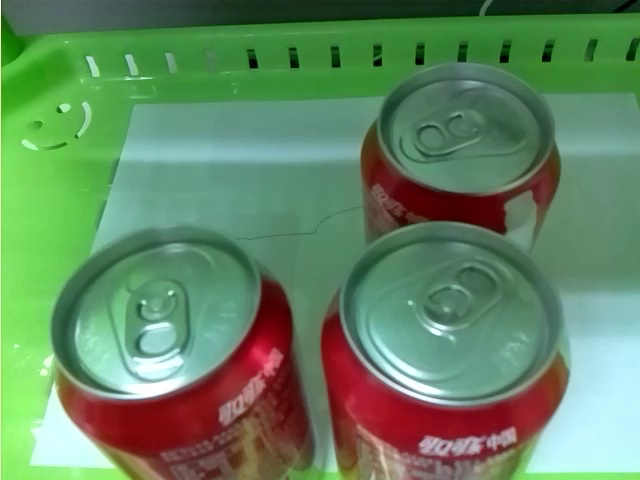cocacola: (41, 221, 310, 480), (315, 217, 572, 480), (356, 60, 561, 231)
